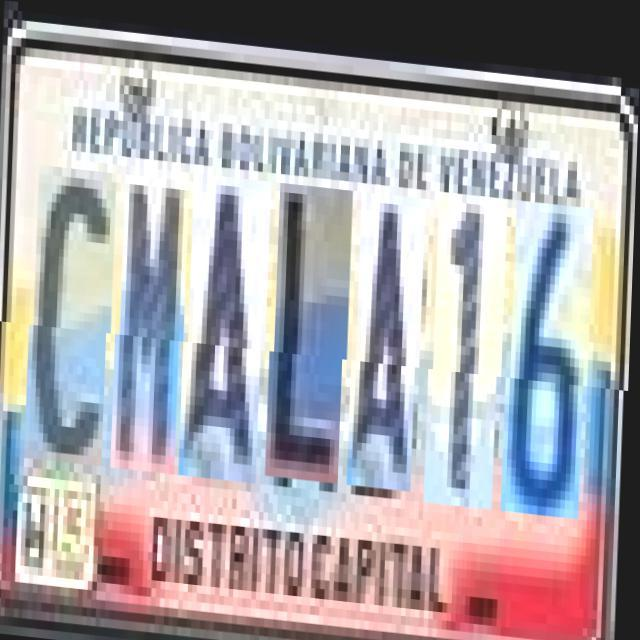1: (432, 182, 509, 498)
6: (509, 188, 595, 506)
A: (186, 168, 272, 478), (355, 183, 427, 482)
C: (32, 164, 118, 464)
L: (274, 176, 354, 476)
M: (118, 162, 190, 470)
